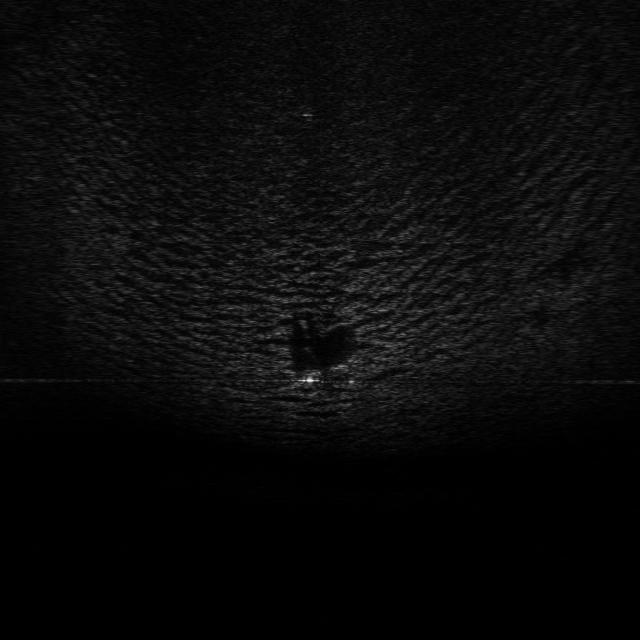plane: (287, 352, 358, 389)
